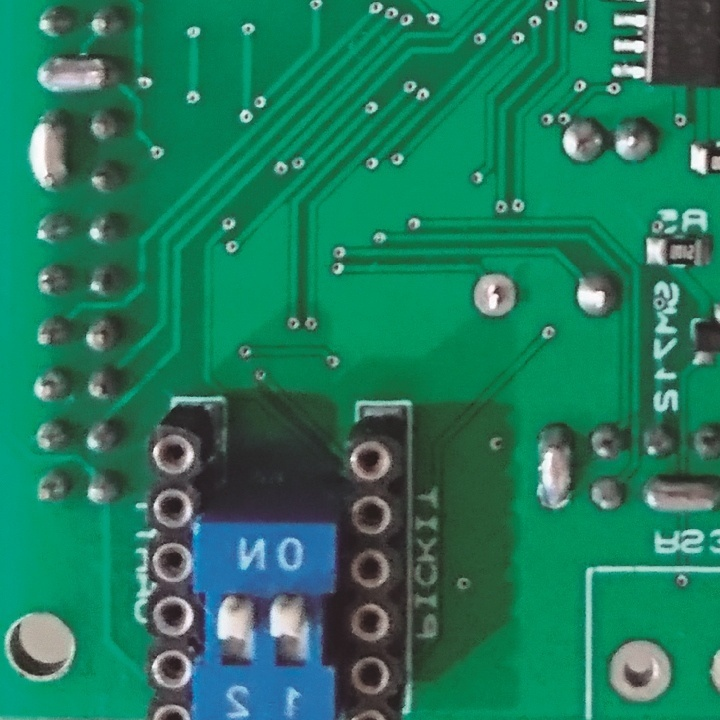F: (605, 634, 675, 707), (466, 271, 523, 323)
P: (530, 419, 578, 516), (21, 109, 76, 193), (33, 52, 120, 99), (638, 471, 720, 520)
